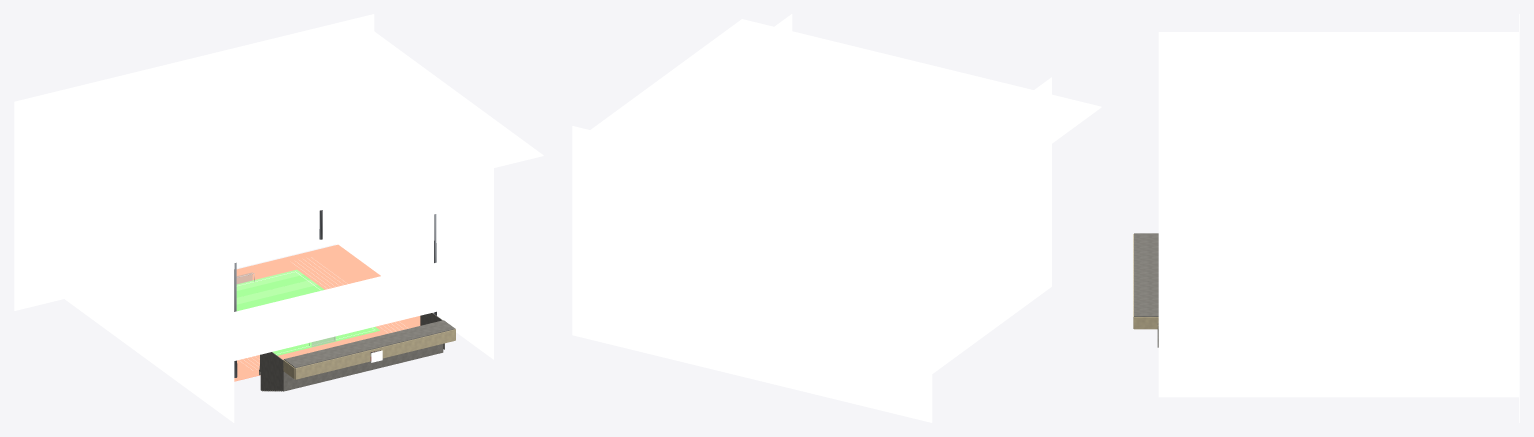
The model's file is room_stadium.glb.
3 views of the same model, side by side, from view 1: azimuth 30°, elevation 25°; view 2: azimuth 150°, elevation 25°; view 3: azimuth 270°, elevation 25° (orthographic). The views are drawn at different scales.
Parts seen in each view (by area): view 1: Room; view 2: Room; view 3: Room.
Part boxes in pixels (bbox=[...]): Room: bbox=[14, 14, 543, 422]; Room: bbox=[572, 14, 1101, 422]; Room: bbox=[1133, 14, 1519, 422].
Bounding box in the file's own units: 108 × 60 × 95.21.
Materials: 26 (3 with a texture image).
